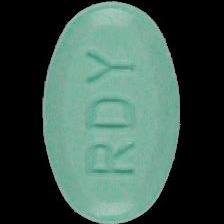55111-321: (0, 0, 224, 224)
